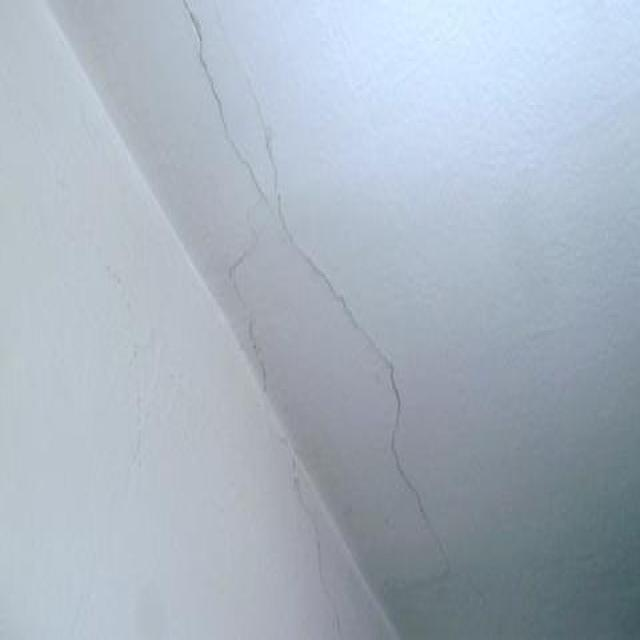crack: (277, 188, 450, 584), (185, 1, 267, 304), (240, 62, 277, 188)
